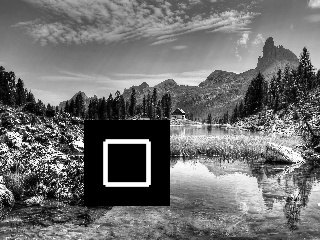square: (84, 120, 170, 206)
